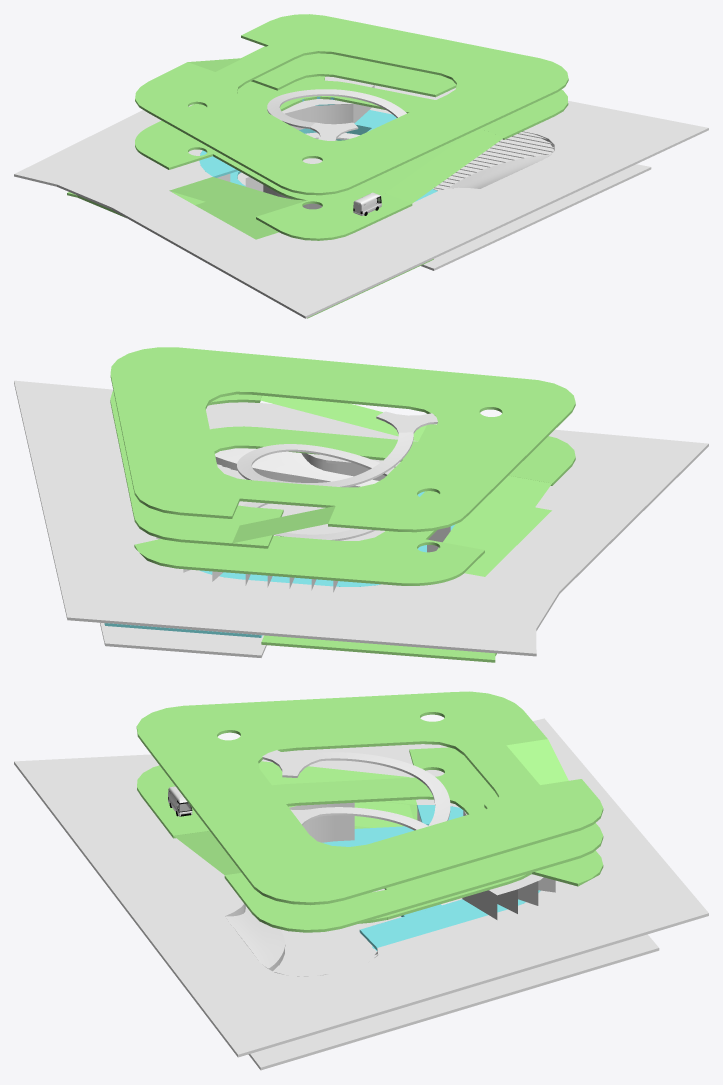
The model's file is ARCHI-GOUND.fbx.
The picture shows the model from 3 angles, top to bottom: view 1: azimuth 30°, elevation 25°; view 2: azimuth 150°, elevation 25°; view 3: azimuth 270°, elevation 25°; orthographic projection. The views are drawn at different scales.
Visible parts, largest first — view 1: VANS ramp, ground, Ramp, OP4, WALL, MOB station, station; view 2: VANS ramp, ground, Ramp, OP4, WALL, MOB station; view 3: VANS ramp, ground, OP4, Ramp, MOB station, WALL.
Boxes of the visible parts, <box> form: VANS ramp: <box>67,14,568,318</box>; ground: <box>14,76,708,318</box>; Ramp: <box>267,89,550,188</box>; OP4: <box>237,140,651,270</box>; WALL: <box>217,85,554,209</box>; MOB station: <box>199,96,437,201</box>; station: <box>282,78,373,113</box>; VANS ramp: <box>110,347,575,662</box>; ground: <box>14,380,708,656</box>; Ramp: <box>215,411,437,540</box>; OP4: <box>100,501,384,657</box>; WALL: <box>156,453,450,592</box>; MOB station: <box>104,491,455,637</box>; VANS ramp: <box>136,691,603,932</box>; ground: <box>14,718,708,1057</box>; OP4: <box>248,889,659,1070</box>; Ramp: <box>225,750,450,969</box>; MOB station: <box>322,805,540,950</box>; WALL: <box>231,802,555,976</box>.
Bounding box in the file's own units: 10448 × 1840 × 9120.
